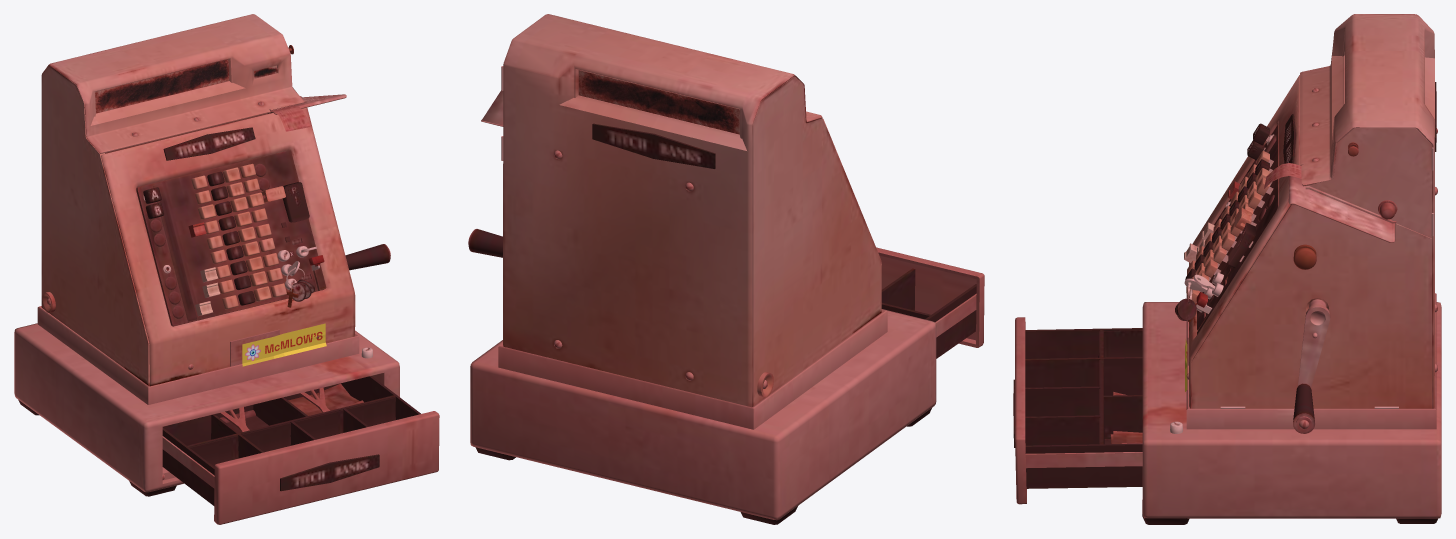
The model's file is nyb_mcmlow_register.glb.
The picture shows the model from 3 angles, left to right: view 1: azimuth 30°, elevation 25°; view 2: azimuth 150°, elevation 25°; view 3: azimuth 270°, elevation 25°; orthographic projection. The views are drawn at different scales.
Visible parts, largest first — view 1: CashRegister_01_body, stk_lbl_0e5b60d70d.png; view 2: CashRegister_01_body; view 3: CashRegister_01_body.
Boxes of the visible parts, x1=… form: CashRegister_01_body: x1=14, y1=14, x2=439, y2=524; stk_lbl_0e5b60d70d.png: x1=242, y1=323, x2=326, y2=366; CashRegister_01_body: x1=468, y1=14, x2=984, y2=524; CashRegister_01_body: x1=1013, y1=14, x2=1441, y2=524.
Bounding box in the file's own units: 0.6005 × 0.6213 × 0.6242.
3 materials, 3 textured.
